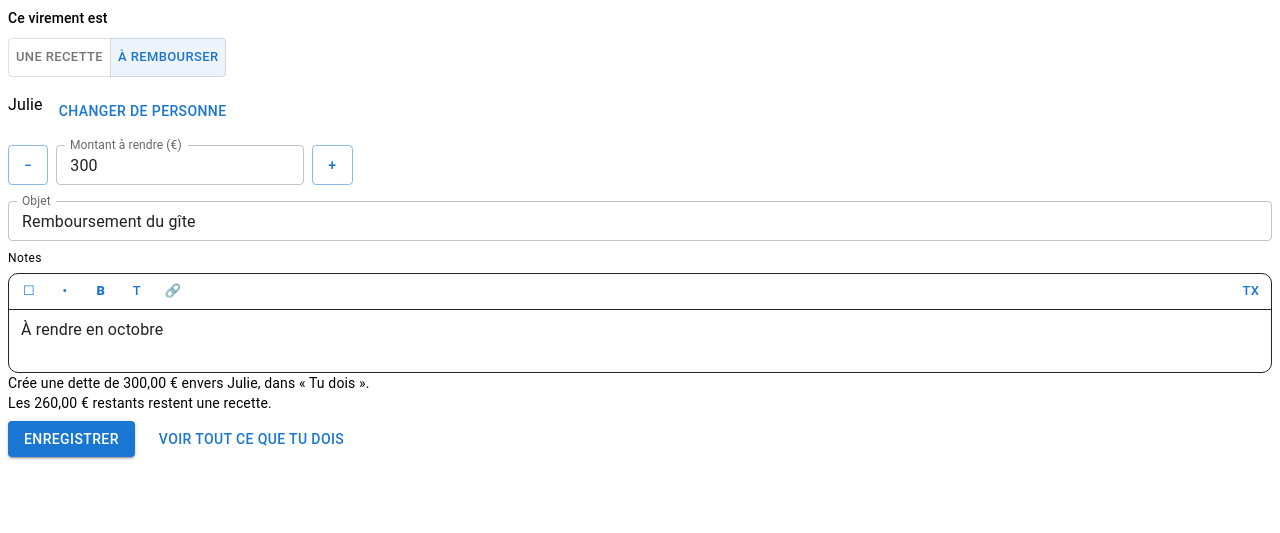
TransactionDebtSection › a refusal shows the API's message
Click the button "Enregistrer" at (71, 439), box left=8, top=421, right=135, bottom=457
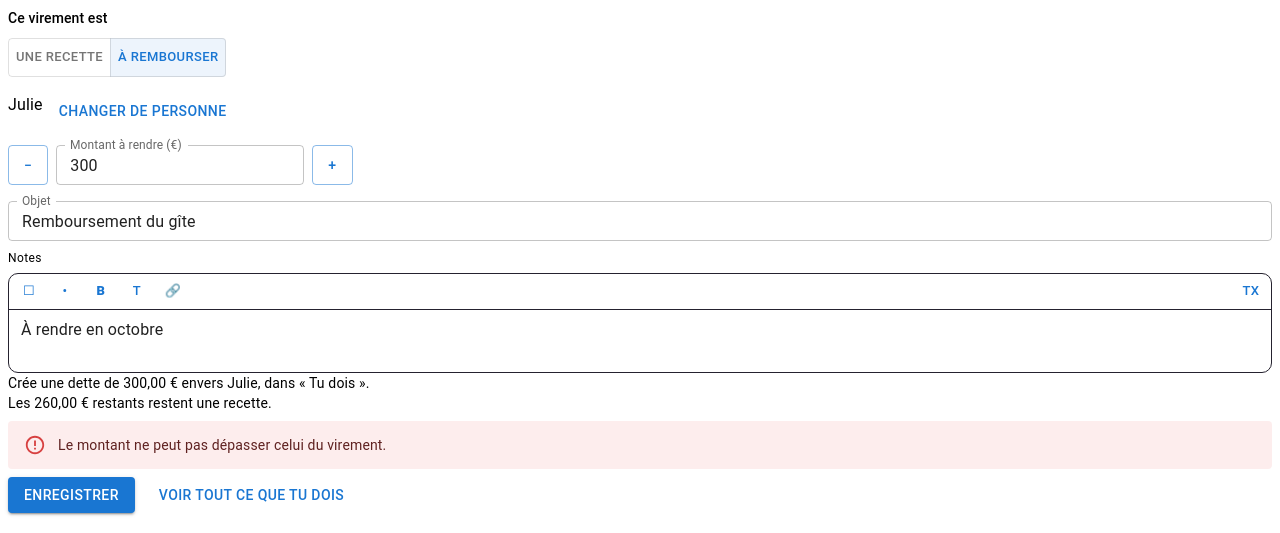
Expected: the text "Le montant ne peut pas dépasser celui du virement." is shown, left=58, top=437, right=386, bottom=453
